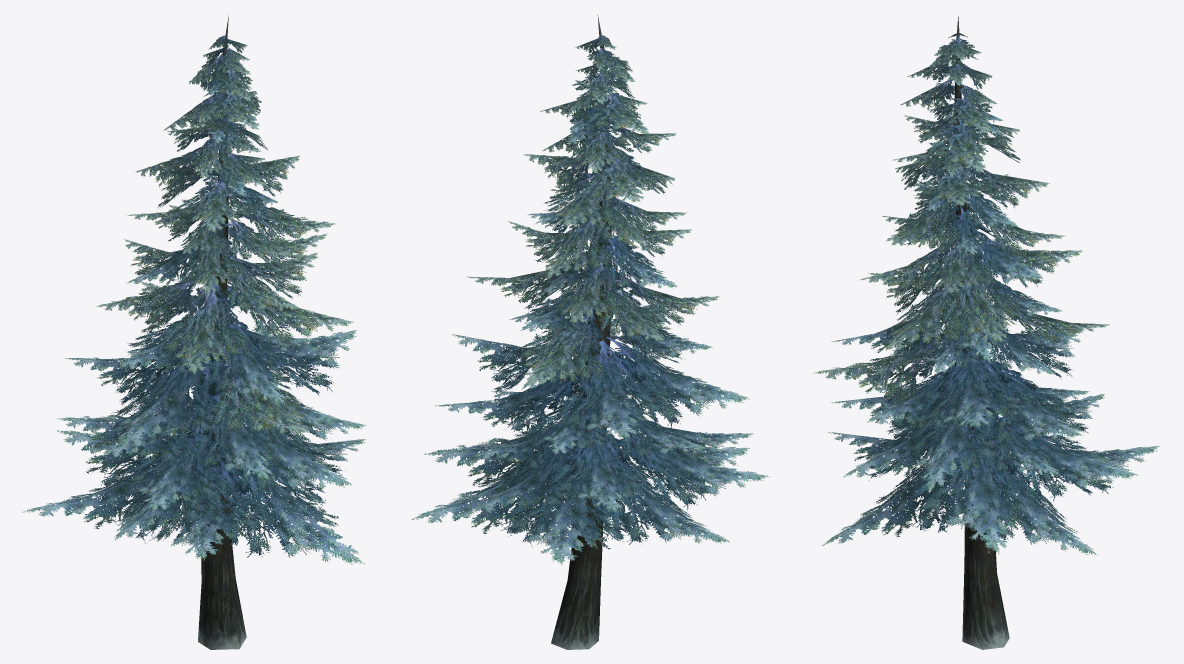
The model's file is yw_xuesebingfeng_xuesong02.FBX.
3 renders of one model, left to right at view 1: azimuth 30°, elevation 25°; view 2: azimuth 150°, elevation 25°; view 3: azimuth 270°, elevation 25°, orthographic. The views are drawn at different scales.
Visible parts, largest first — view 1: yw_xuesebingfeng_xuesong02; view 2: yw_xuesebingfeng_xuesong02; view 3: yw_xuesebingfeng_xuesong02.
Boxes of the visible parts, <box> form: yw_xuesebingfeng_xuesong02: <box>22,14,366,649</box>; yw_xuesebingfeng_xuesong02: <box>411,15,771,649</box>; yw_xuesebingfeng_xuesong02: <box>813,16,1160,649</box>.
Bounding box in the file's own units: 1267 × 2237 × 1183.
